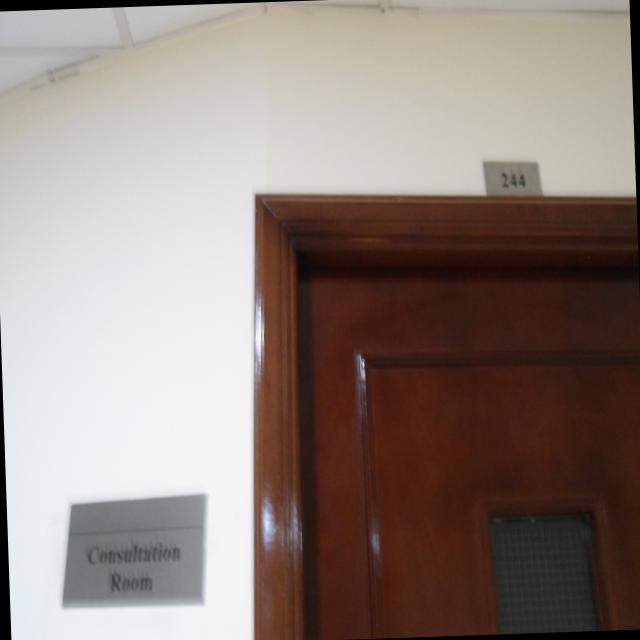door: (254, 194, 640, 639)
sign: (62, 494, 206, 607), (483, 160, 542, 196)
